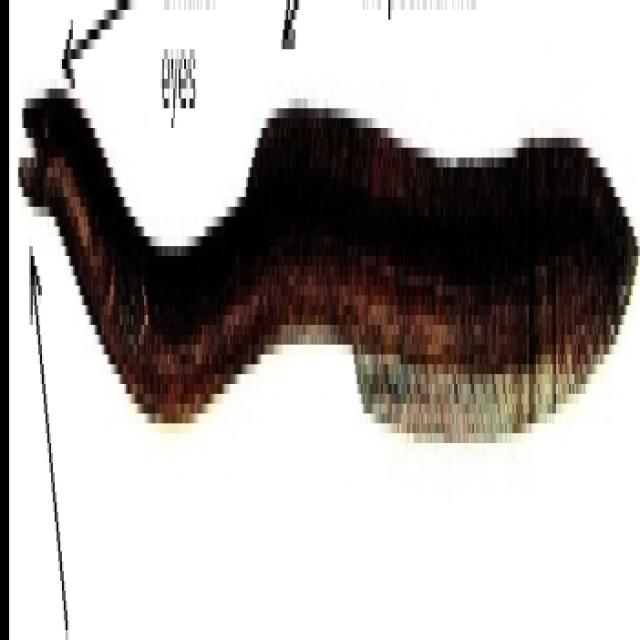Freshwater-Eel: (13, 28, 640, 550)
